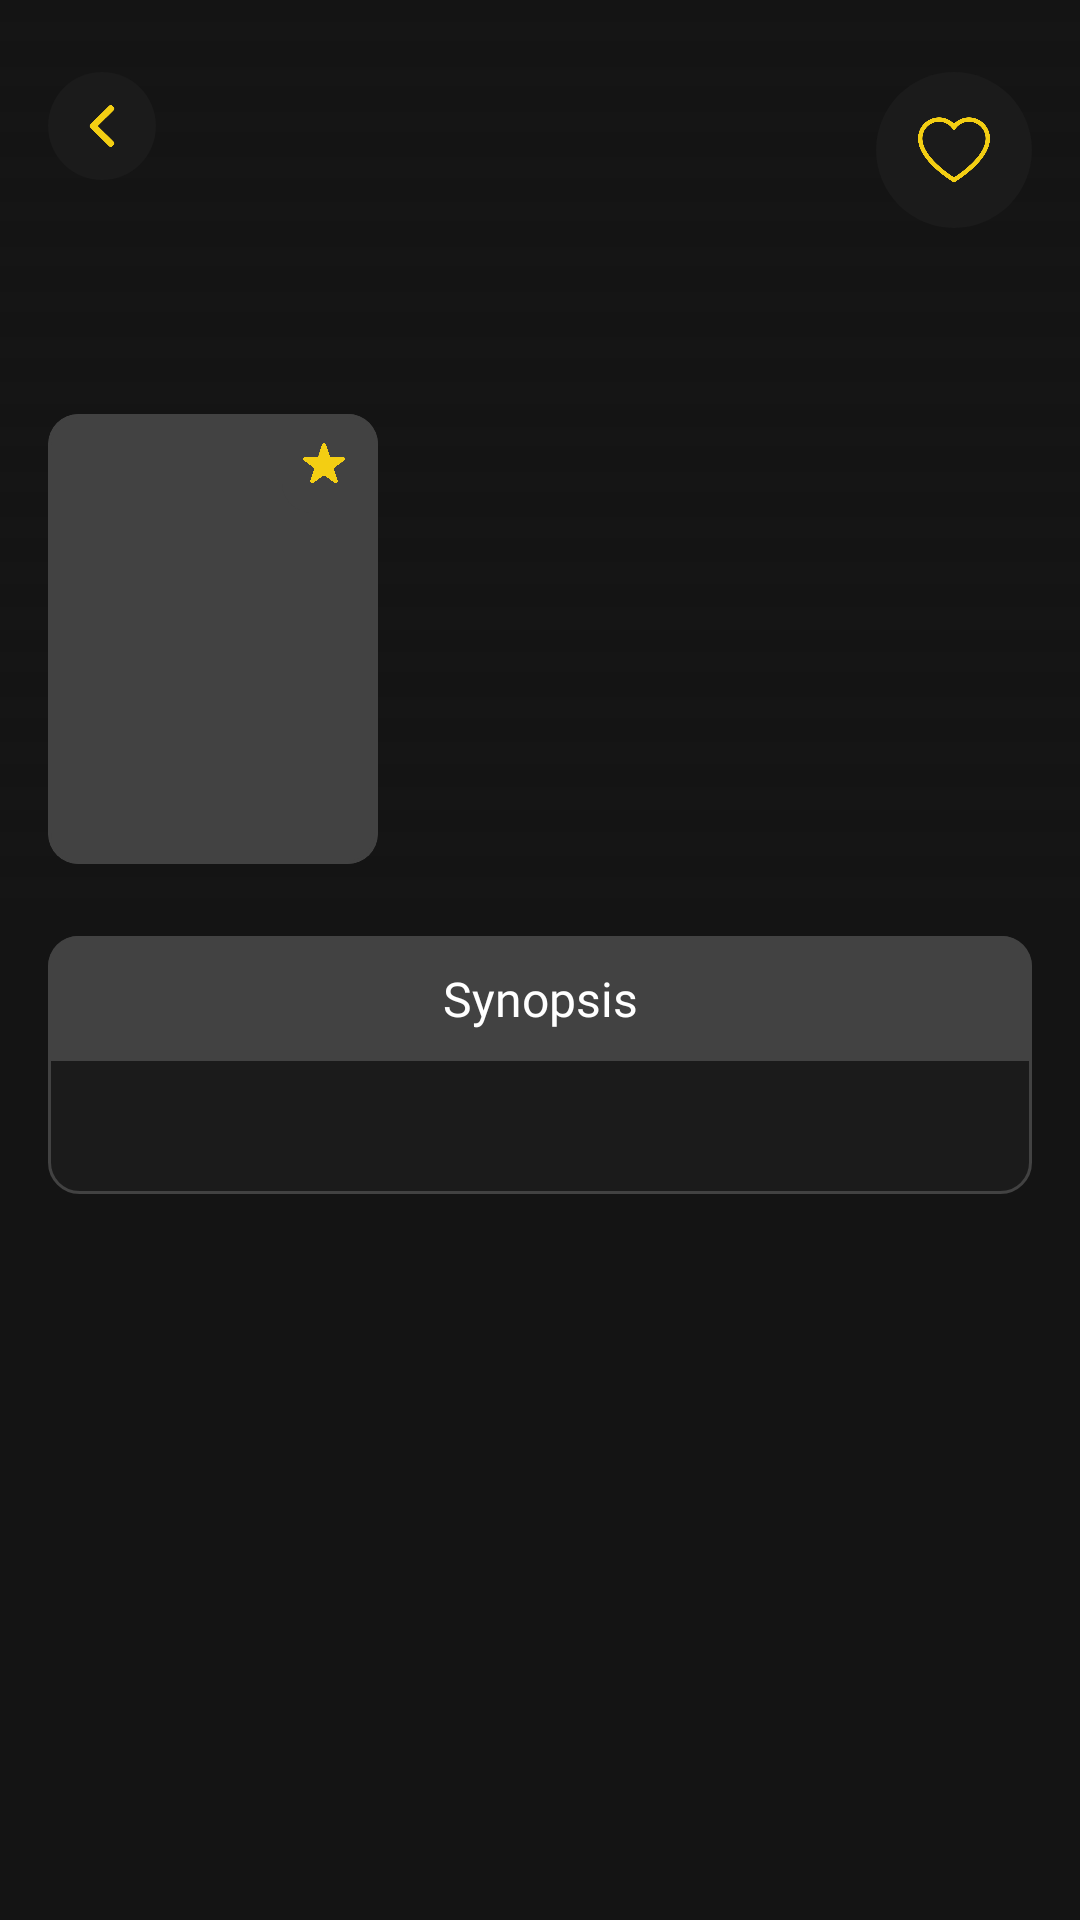

Icons on this 1080 × 1920 Android screen, each with its box as (x1, y1, x2, y2):
back: (89, 105, 115, 147)
favorite false: (918, 117, 990, 182)
star: (303, 443, 345, 483)
